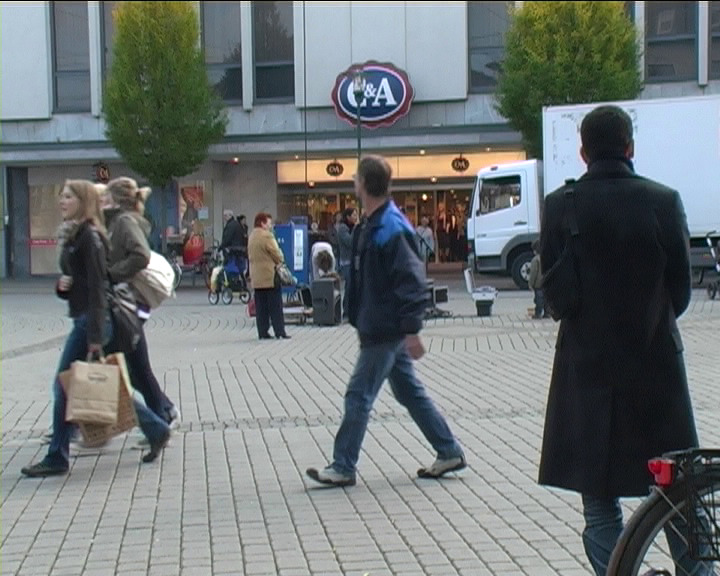deflection: (346, 154, 419, 270)
